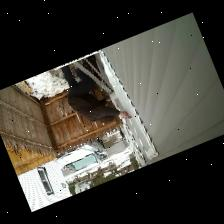person: (61, 64, 131, 121)
